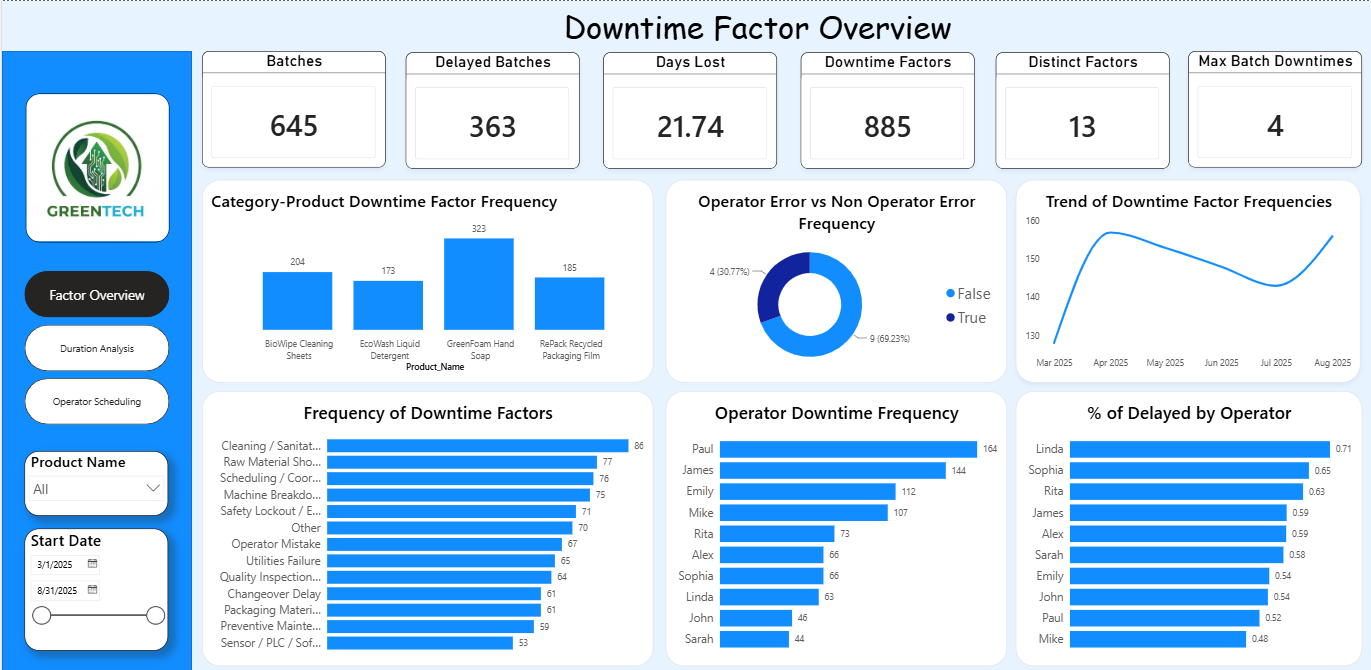

What the dashboard file says about the page in this screenshot:
{"tool":"powerbi","page":{"name":"Factor Overview","canvas":[1900,930],"ordinal":0},"visuals":[{"type":"textbox","box":[645.5,0,795.7,89.8],"z":0},{"type":"shape","box":[0,69,262.4,861.3],"z":1000},{"type":"cardVisual","title":"Batches","fields":{"Data":["CountNonNull(batch_pd.Batch_ID)"]},"box":[276.2,69,253.7,160.5],"z":2000},{"type":"cardVisual","title":"Delayed Batches","fields":{"Data":["Count(downtimes.BATCH_ID)"]},"box":[557.5,70.8,239.9,160.5],"z":3000},{"type":"cardVisual","title":"Days Lost","fields":{"Data":["Sum(downtimes.Days)"]},"box":[830.2,70.8,239.9,160.5],"z":4000},{"type":"cardVisual","title":"Downtime Factors","fields":{"Data":["CountNonNull(downtimes.Factor_ID)"]},"box":[1102.9,70.8,239.9,160.5],"z":5000},{"type":"cardVisual","title":"Distinct Factors","fields":{"Data":["Count(downtimes.Factor_ID)"]},"box":[1372.2,70.8,239.9,160.5],"z":6000},{"type":"cardVisual","title":"Max Batch Downtimes","fields":{"Data":["downtimes.Max Downtime Per Batch"]},"box":[1638,69,239.9,160.5],"z":7000},{"type":"columnChart","title":"Category-Product Downtime Factor Frequency","fields":{"Category":["products.Category Hierarchy.Category","products.Product_Name"],"Y":["CountNonNull(downtimes.Factor_ID)"]},"box":[276.2,246.8,623.1,279.6],"z":8000},{"type":"donutChart","title":"Operator Error vs Non Operator Error Frequency","fields":{"Category":["downtime_factors.Operator_Error"],"Y":["CountNonNull(downtime_factors.Operator_Error)"]},"box":[916.5,246.8,471.2,279.6],"z":9000},{"type":"lineChart","title":"Trend of Downtime Factor Frequencies","fields":{"Category":["batch_pd.Start_Date.Variation.Date Hierarchy.Year","batch_pd.Start_Date.Variation.Date Hierarchy.Quarter","batch_pd.Start_Date.Variation.Date Hierarchy.Month","batch_pd.Start_Date.Variation.Date Hierarchy.Day"],"Y":["CountNonNull(downtimes.Factor_ID)"]},"box":[1399.8,246.8,476.4,279.6],"z":10000},{"type":"barChart","title":"Frequency of Downtime Factors","fields":{"Category":["downtime_factors.Factor_Name"],"Y":["CountNonNull(downtimes.Factor_ID)"]},"box":[276.2,538.5,623.1,379.7],"z":11000},{"type":"barChart","title":"Operator Downtime Frequency ","fields":{"Category":["batch_pd.Operator"],"Y":["CountNonNull(downtimes.Factor_ID)"]},"box":[916.5,538.5,471.2,379.7],"z":12000},{"type":"barChart","title":"% of Delayed by Operator","fields":{"Category":["batch_pd.Operator"],"Y":["downtimes.Delayed Batches %"]},"box":[1399.8,538.5,478.1,379.7],"z":13000},{"type":"slicer","fields":{"Values":["products.Product_Name"]},"box":[31.1,621.4,198.5,89.8],"z":14000},{"type":"slicer","fields":{"Values":["batch_pd.Start_Date"]},"box":[31.1,728.4,198.5,169.2],"z":15000},{"type":"image","box":[32.8,127.7,198.5,205.4],"z":16000},{"type":"pageNavigator","box":[31.1,372.8,200.2,212.3],"z":17000}]}

Visuals, with their boxes in screenshot pixels (x1, y1, x2, y2), scaled from the page's 1900x930 canvas onto the 1371x670 screenshot:
textbox: bbox=[466, 0, 1040, 65]
shape: bbox=[0, 50, 189, 669]
"Batches" cardVisual: bbox=[199, 50, 382, 165]
"Delayed Batches" cardVisual: bbox=[402, 51, 575, 167]
"Days Lost" cardVisual: bbox=[599, 51, 772, 167]
"Downtime Factors" cardVisual: bbox=[796, 51, 969, 167]
"Distinct Factors" cardVisual: bbox=[990, 51, 1163, 167]
"Max Batch Downtimes" cardVisual: bbox=[1182, 50, 1355, 165]
"Category-Product Downtime Factor Frequency" columnChart: bbox=[199, 178, 649, 379]
"Operator Error vs Non Operator Error Frequency" donutChart: bbox=[661, 178, 1001, 379]
"Trend of Downtime Factor Frequencies" lineChart: bbox=[1010, 178, 1354, 379]
"Frequency of Downtime Factors" barChart: bbox=[199, 388, 649, 661]
"Operator Downtime Frequency " barChart: bbox=[661, 388, 1001, 661]
"% of Delayed by Operator" barChart: bbox=[1010, 388, 1355, 661]
slicer - products.Product_Name: bbox=[22, 448, 166, 512]
slicer - batch_pd.Start_Date: bbox=[22, 525, 166, 647]
image: bbox=[24, 92, 167, 240]
pageNavigator: bbox=[22, 269, 167, 422]
